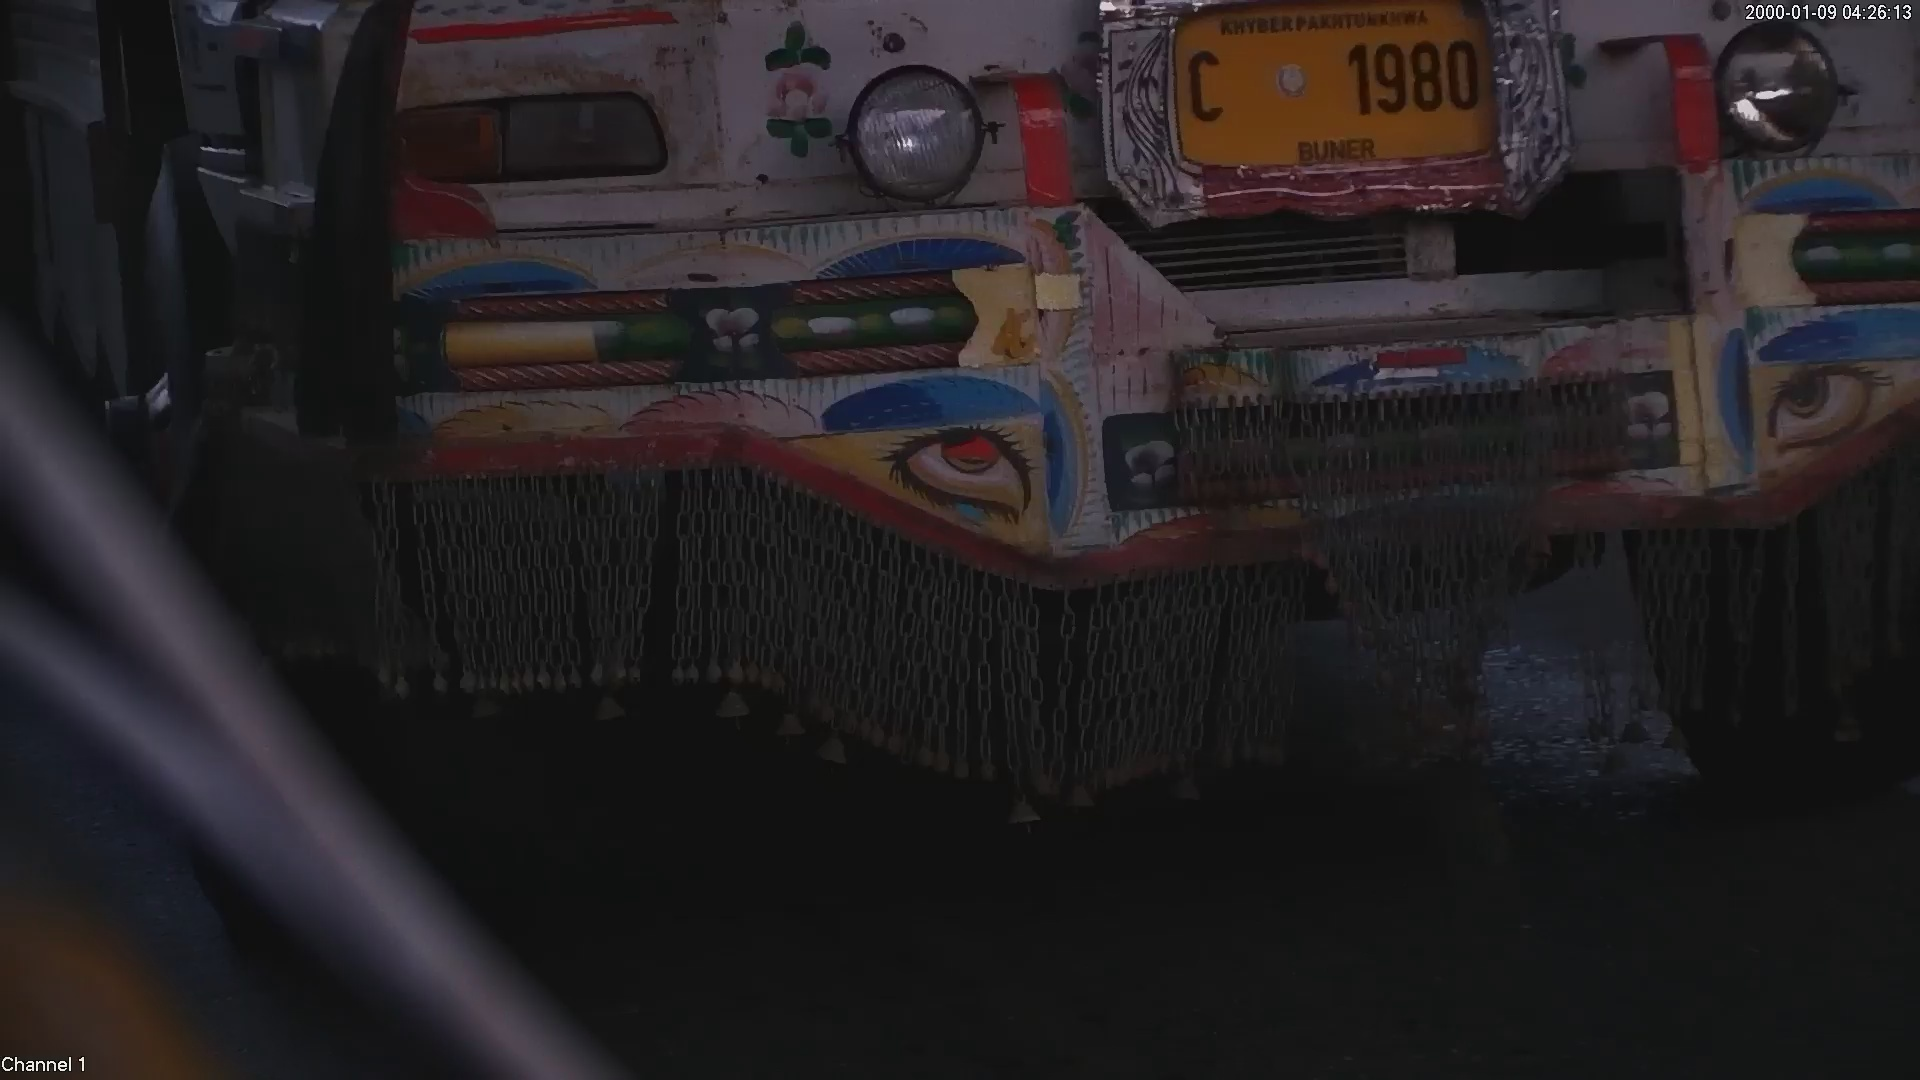Number_Plate: (1143, 7, 1554, 207)
